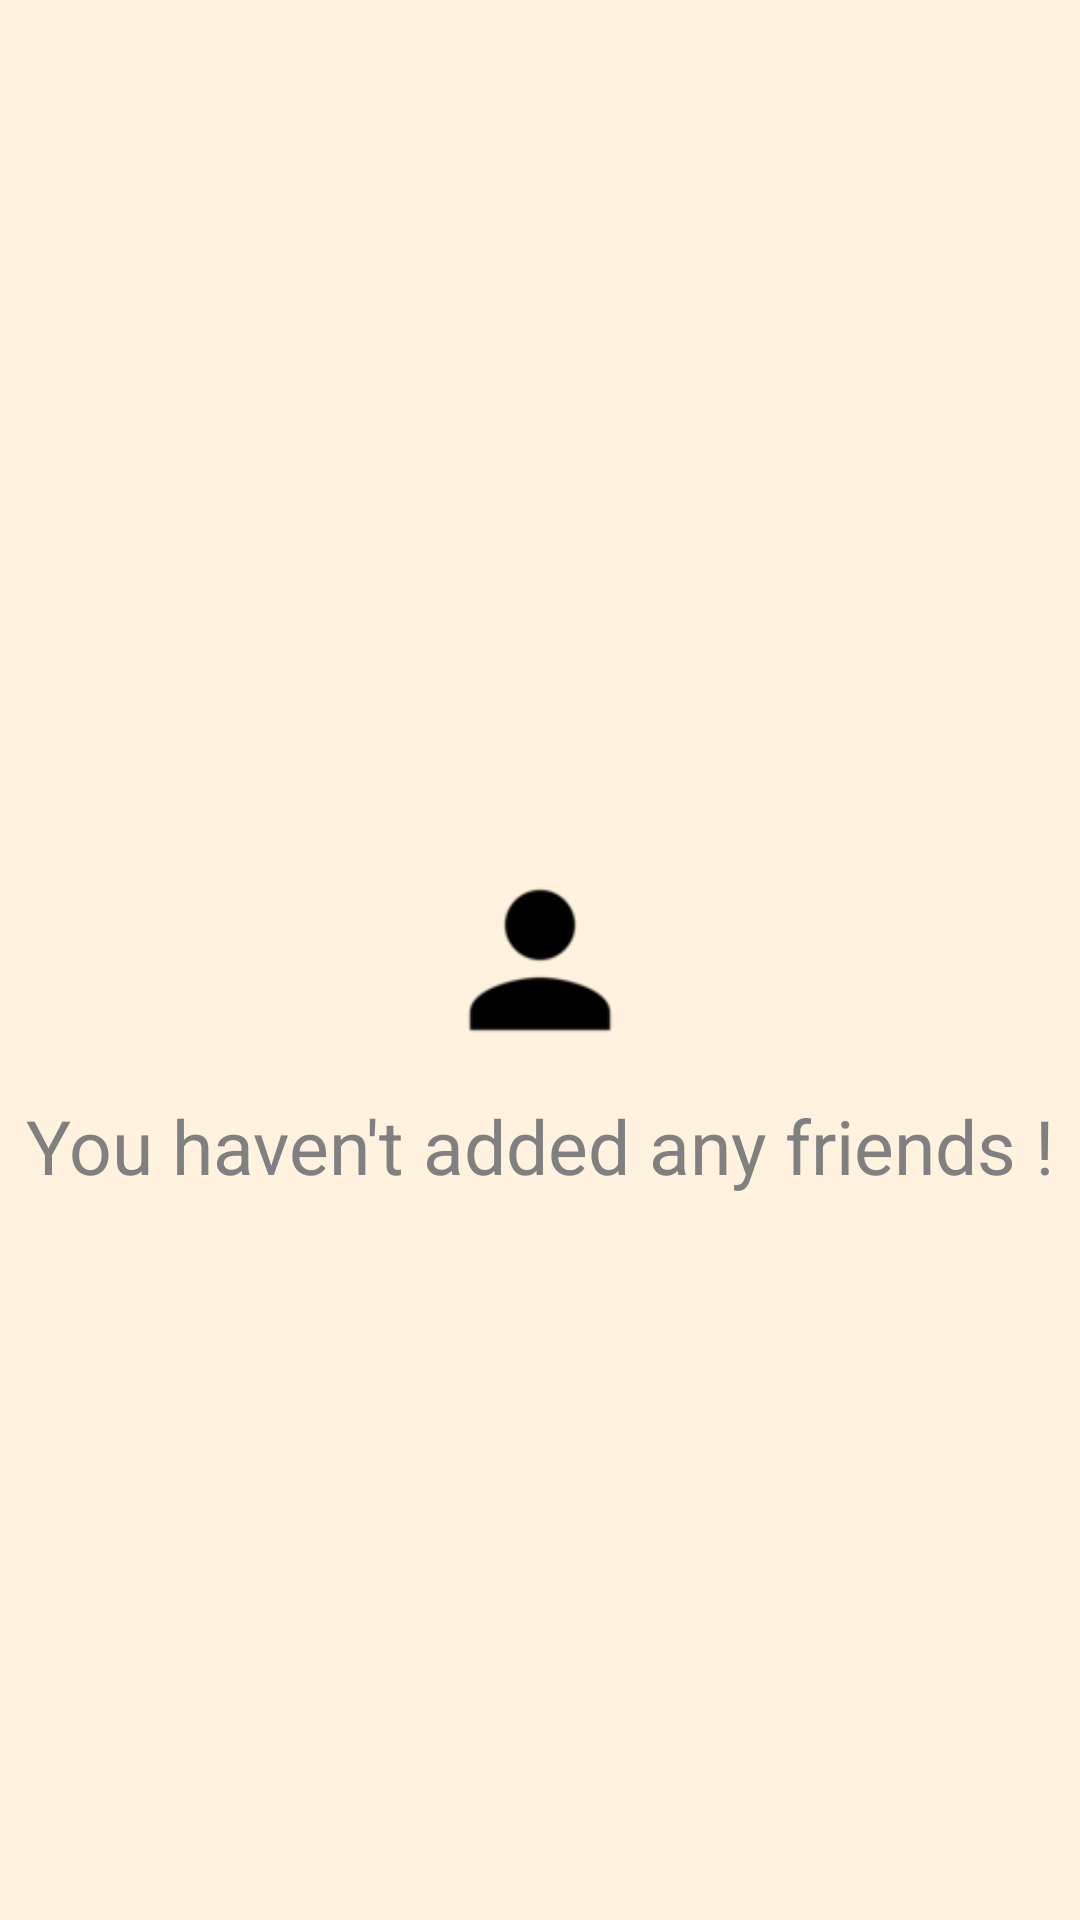

Where icons sit on this 1080 x 1920 app screen, as box(x1, y1, x2, y2):
person: box(468, 889, 612, 1032)
